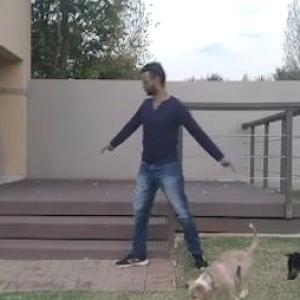land: (97, 62, 242, 272)
